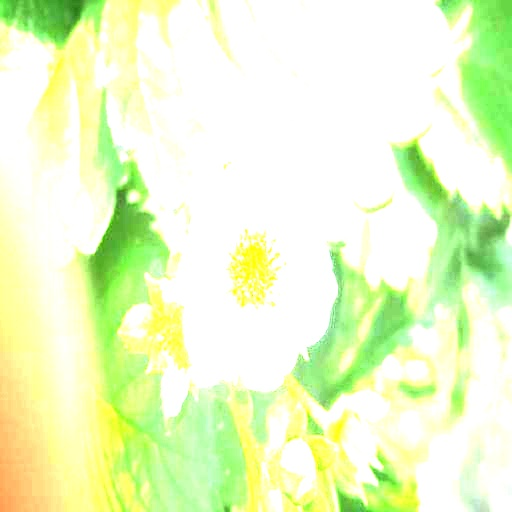Blossom Blight: (219, 222, 292, 316)
